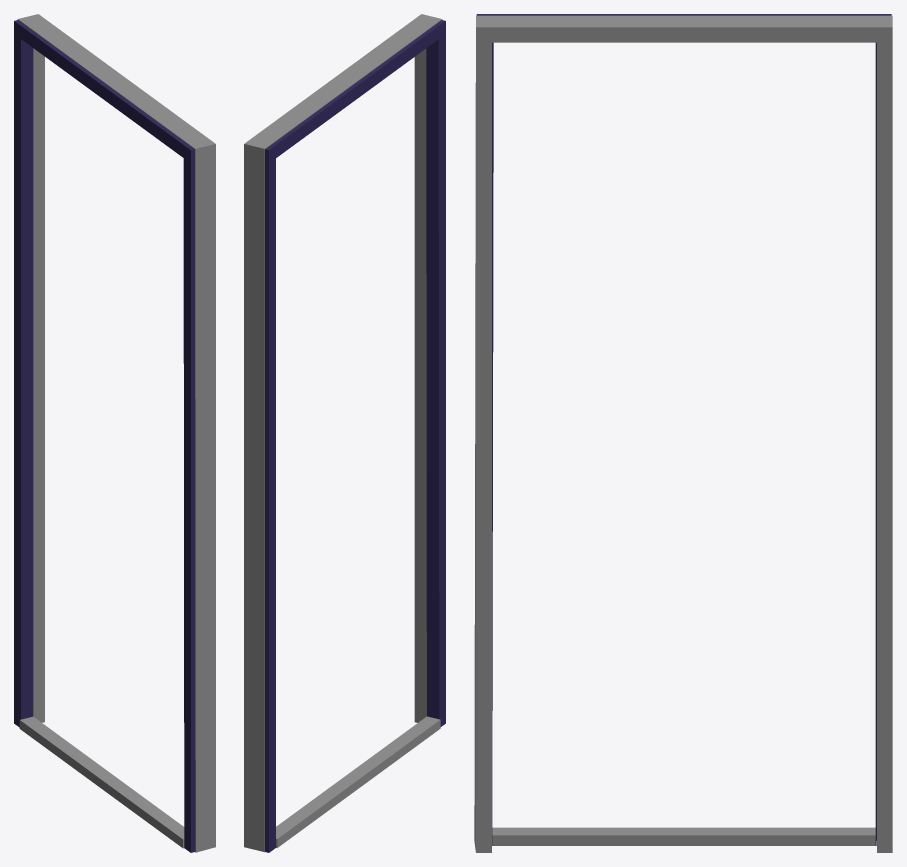
The model's file is 2063_FRAME.glb.
The picture shows the model from 3 angles, left to right: view 1: azimuth 30°, elevation 25°; view 2: azimuth 150°, elevation 25°; view 3: azimuth 270°, elevation 25°; orthographic projection. The views are drawn at different scales.
Visible parts, largest first — view 1: 2063_FRAME; view 2: 2063_FRAME; view 3: 2063_FRAME.
Part boxes in pixels (<box>): 2063_FRAME: <box>14,14,215,852</box>; 2063_FRAME: <box>244,14,445,852</box>; 2063_FRAME: <box>474,14,892,852</box>.
Size of the model in its own units: 0.0821 by 2.13 by 0.9766.
